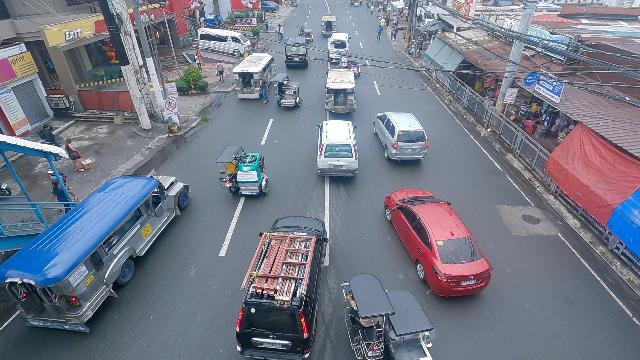car: (384, 186, 494, 299), (235, 212, 328, 320), (372, 111, 429, 164), (314, 120, 361, 179)
jeepney: (0, 172, 191, 334), (233, 52, 276, 100), (325, 67, 358, 114), (320, 15, 337, 36)
van: (195, 28, 252, 60), (285, 36, 309, 70), (327, 33, 351, 62)
